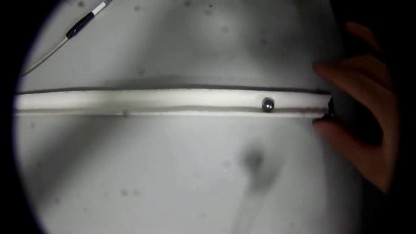gangzhu: (261, 95, 276, 113)
